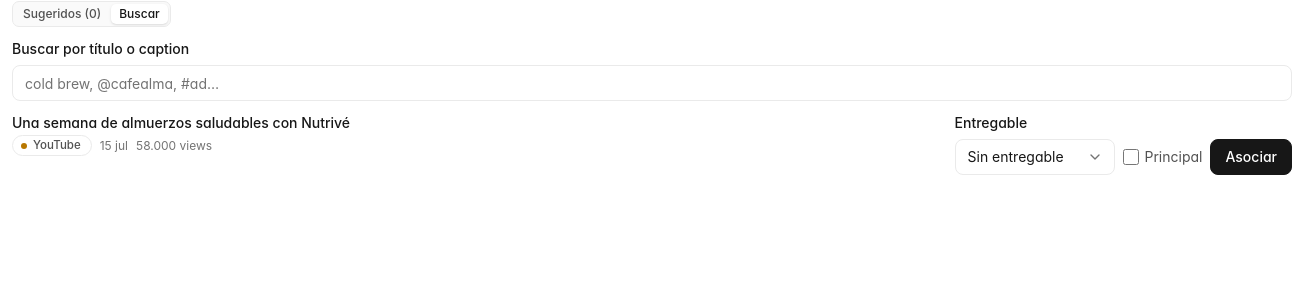
LinkPosts › sin sugerencias abre en Buscar con la lista inicial y busca en el servidor al escribir
The width and height of the screenshot is (1304, 292).
Expected: the text "Una semana de almuerzos saludables con Nutrivé" is shown, x1=12 y1=114 x2=350 y2=131
Type "cold brew" into the search field labelled "Buscar por título o caption" at (652, 83), box x1=12 y1=65 x2=1292 y2=101
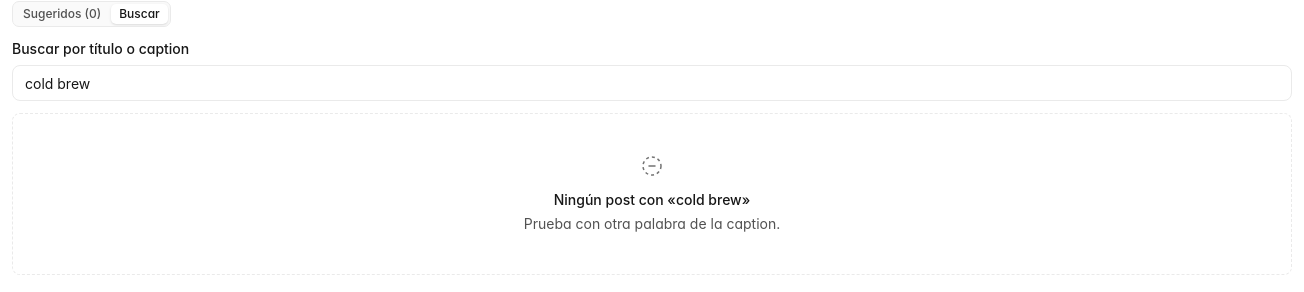
Now the text "Ningún post con «cold brew»" is shown, box x1=554 y1=190 x2=750 y2=210
